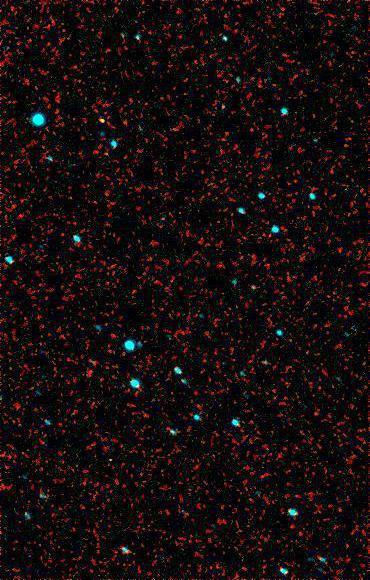star: (89, 104, 119, 134)
